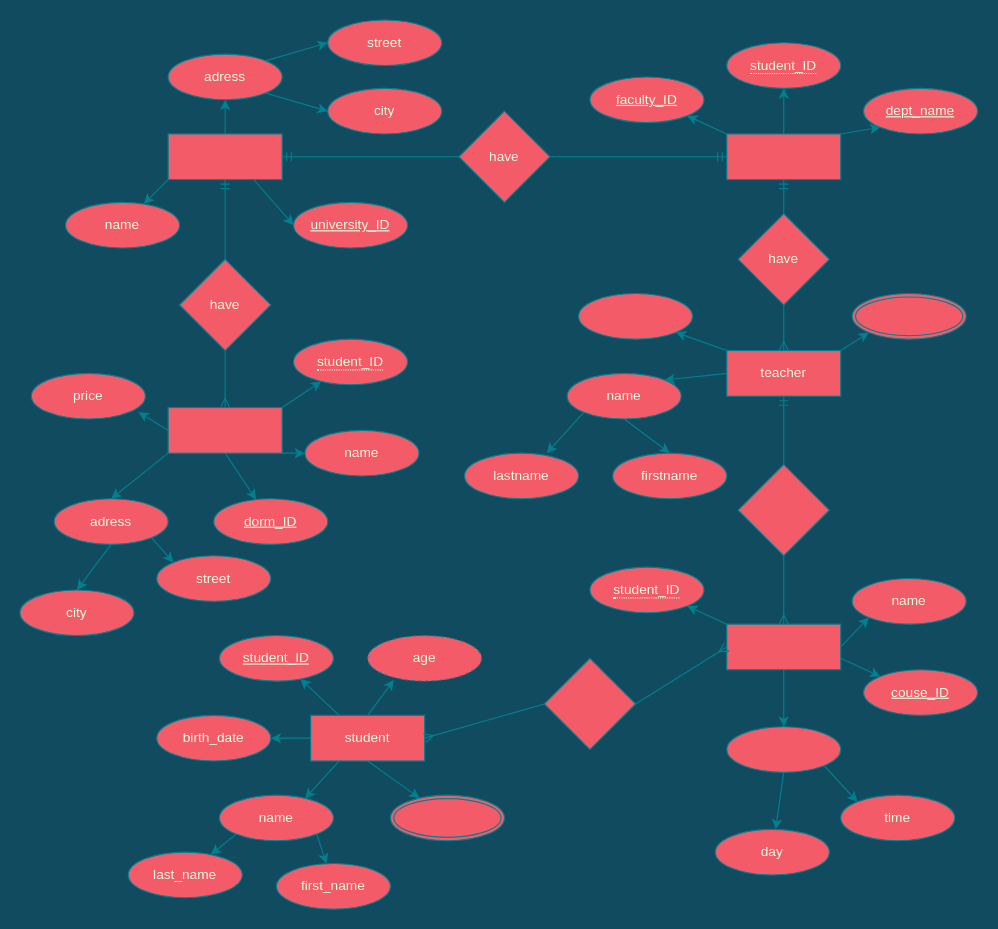
Some shapes in this 998 by 929 pixel diagram are drawn without their labels. Here are the shapes that lost their labels. From the top down, the centre of each, then its label:
(x=224, y=156): university
(x=783, y=156): office_of_register
(x=635, y=315): teacher_ID
(x=908, y=315): number
(x=224, y=429): dormitory
(x=783, y=509): teaches
(x=783, y=646): course
(x=589, y=703): takes
(x=783, y=749): schedule
(x=446, y=817): phone_number
